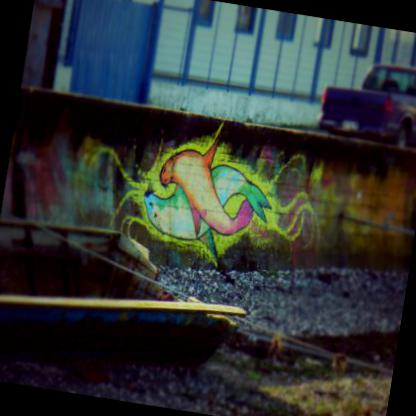truck: (307, 43, 415, 155)
